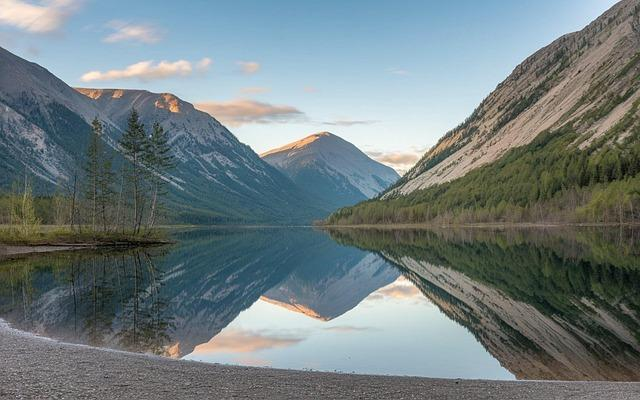Non_Gorille: (60, 31, 551, 366)
